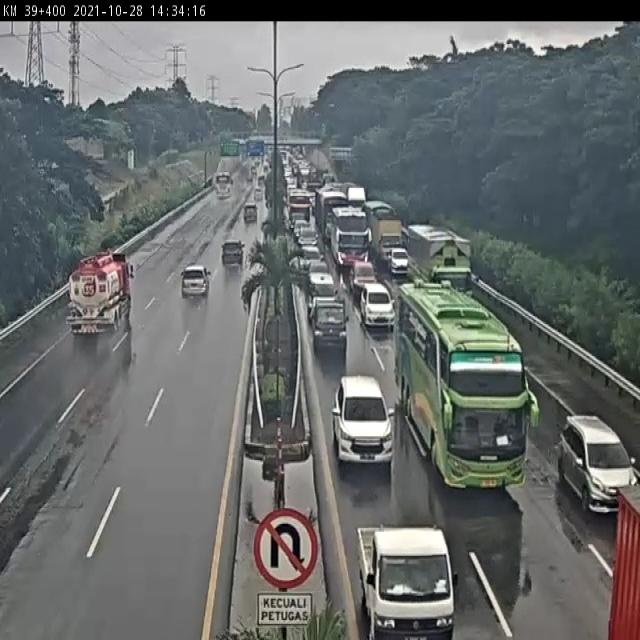bus: (394, 280, 538, 494), (329, 206, 370, 274), (286, 190, 312, 230)
car: (354, 522, 455, 640), (558, 411, 640, 521), (333, 374, 398, 474), (312, 298, 349, 351), (360, 284, 394, 332), (306, 273, 338, 318), (181, 262, 212, 298), (348, 260, 378, 295), (220, 240, 246, 268), (387, 246, 408, 274)
truck: (67, 248, 135, 341), (411, 226, 472, 298), (368, 206, 404, 264), (315, 188, 350, 239)
